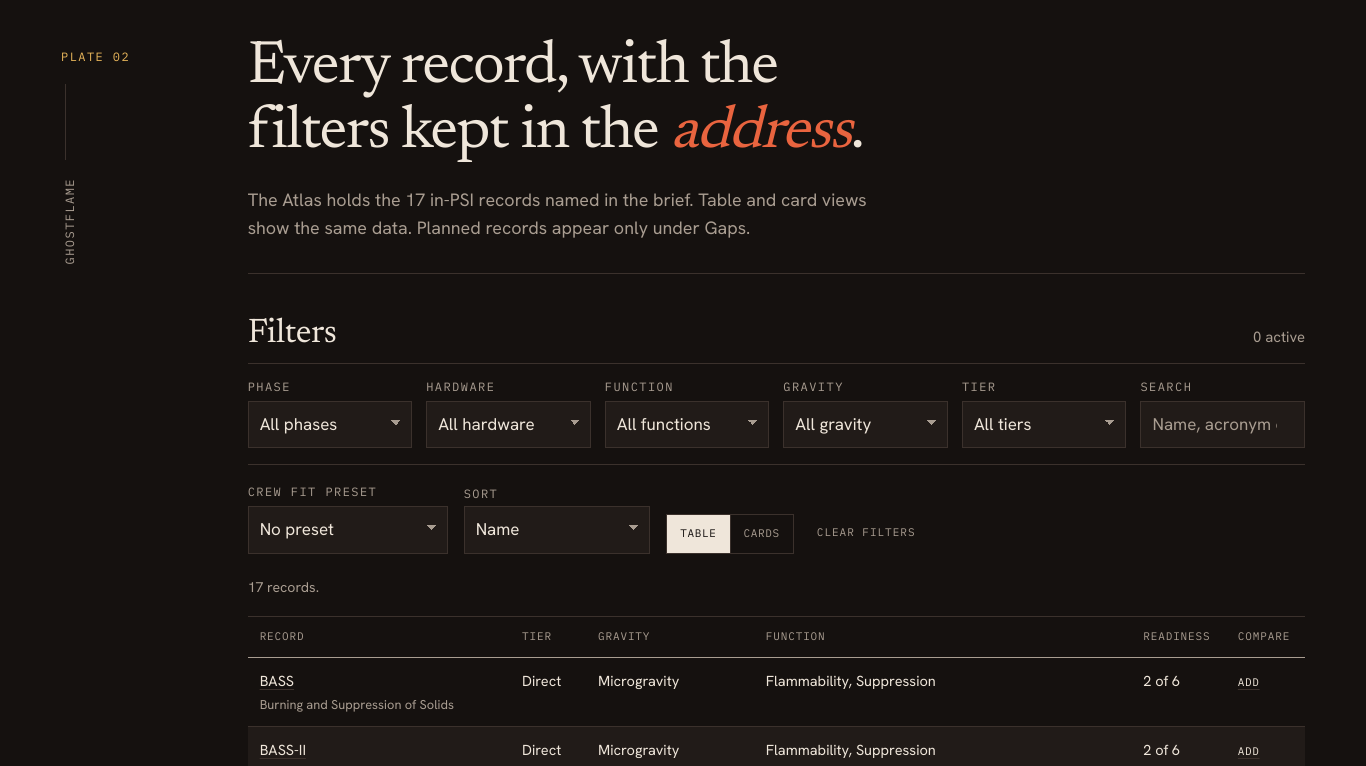
Test case: Atlas component › filters to liquid records and clears back to all records
Expected: the link "BASS" is shown, [260,671,294,690]
Select "Liquid" in the dropdown labelled "Phase" at (330, 425), box [248,401,412,448]
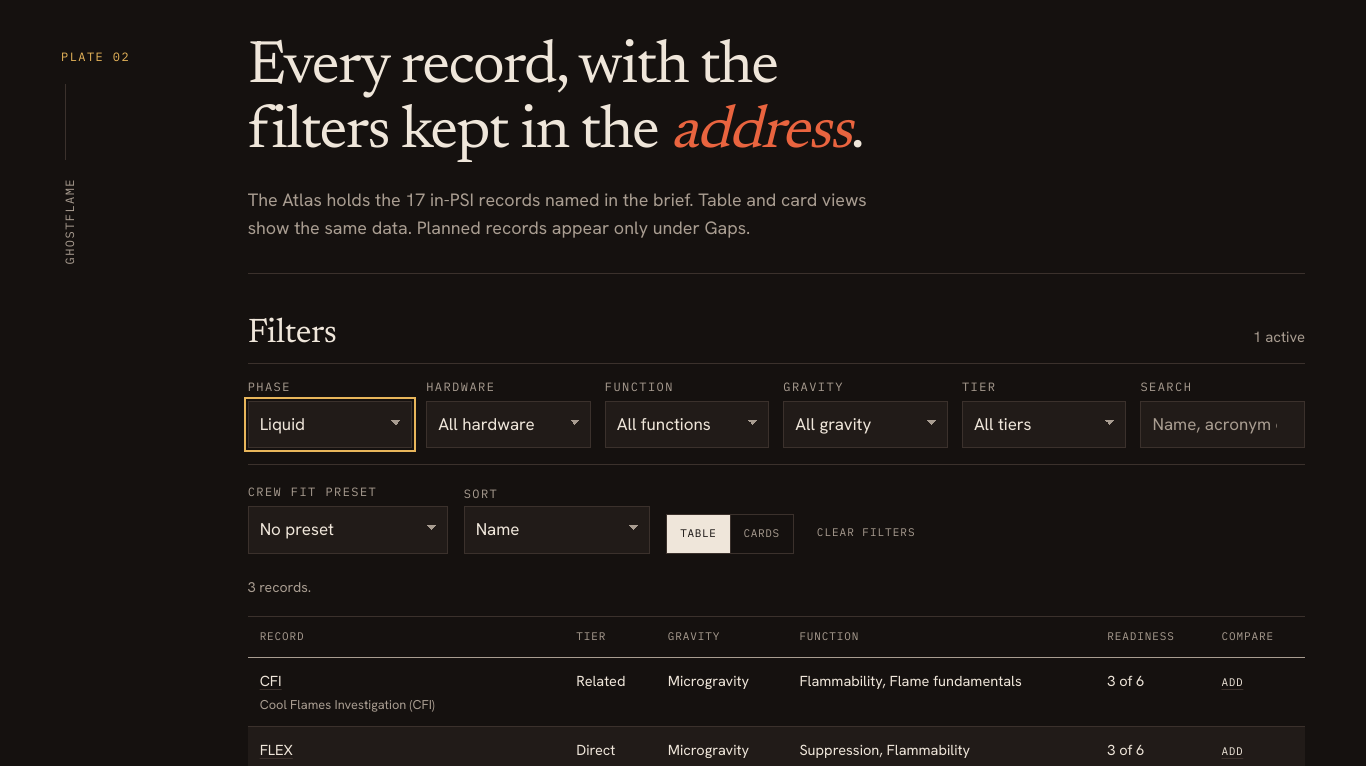
Expected: the link "FLEX" is shown, [260,740,293,760]
Now the link "BASS" is gone
Click the button "Clear filters" at (866, 533), box [810,512,922,554]
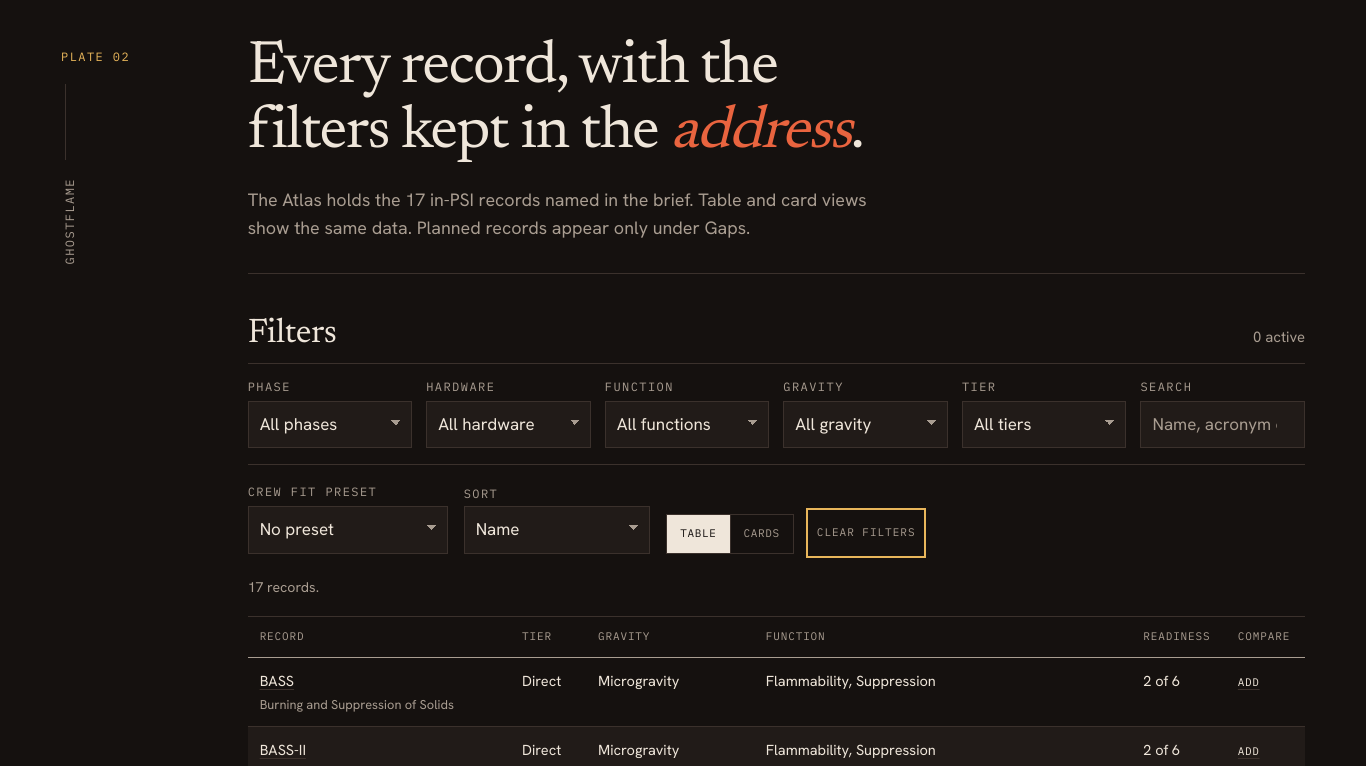
Now the link "BASS" is shown, box [260,671,294,690]
